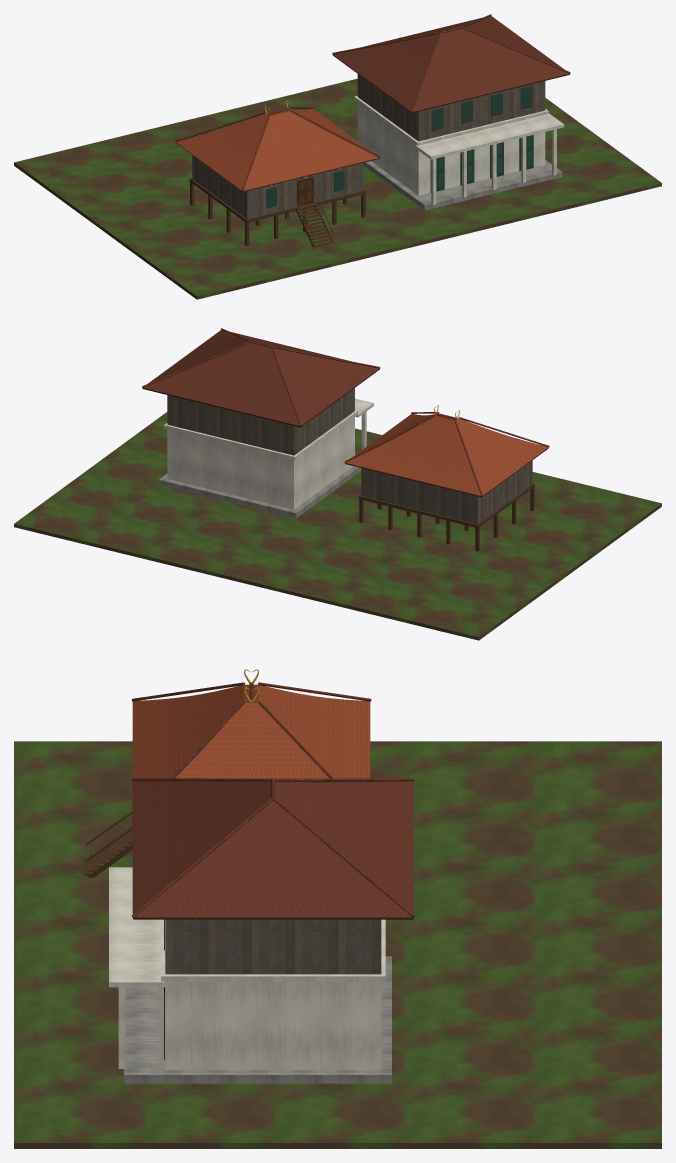
The model's file is munawar.glb.
3 views of the same model, one above another, from view 1: azimuth 30°, elevation 25°; view 2: azimuth 150°, elevation 25°; view 3: azimuth 270°, elevation 25° (orthographic). The views are drawn at different scales.
Visible parts, largest first — view 1: munawar_tanah, munawar_genteng_tua, munawar_plester_putih, munawar_genteng, munawar_kayu_lapuk, munawar_beton, munawar_kayu_balok, munawar_jalusi, munawar_pintu_hijau, munawar_pintu_coklat; view 2: munawar_tanah, munawar_genteng_tua, munawar_plester_putih, munawar_kayu_lapuk, munawar_genteng, munawar_beton, munawar_kayu_balok; view 3: munawar_tanah, munawar_genteng_tua, munawar_plester_putih, munawar_genteng, munawar_kayu_lapuk, munawar_beton, munawar_kayu_balok.
Boxes of the visible parts, <box> form: munawar_tanah: <box>14,78,661,299</box>; munawar_genteng_tua: <box>175,14,570,190</box>; munawar_plester_putih: <box>354,95,564,204</box>; munawar_genteng: <box>176,108,379,191</box>; munawar_kayu_lapuk: <box>192,74,545,218</box>; munawar_beton: <box>363,160,562,210</box>; munawar_kayu_balok: <box>189,178,365,247</box>; munawar_jalusi: <box>266,85,532,208</box>; munawar_pintu_hijau: <box>430,135,533,192</box>; munawar_pintu_coklat: <box>297,176,313,206</box>; munawar_tanah: <box>14,412,661,640</box>; munawar_genteng_tua: <box>142,328,549,496</box>; munawar_plester_putih: <box>164,398,373,509</box>; munawar_kayu_lapuk: <box>167,388,532,524</box>; munawar_genteng: <box>345,413,548,497</box>; munawar_beton: <box>159,454,361,518</box>; munawar_kayu_balok: <box>359,483,534,551</box>; munawar_tanah: <box>14,741,661,1148</box>; munawar_genteng_tua: <box>131,682,414,919</box>; munawar_plester_putih: <box>109,867,385,1070</box>; munawar_genteng: <box>132,684,370,778</box>; munawar_kayu_lapuk: <box>165,919,381,974</box>; munawar_beton: <box>124,956,391,1083</box>; munawar_kayu_balok: <box>83,811,132,877</box>.
Bounding box in the file's own units: 44 × 12.38 × 30.
12 materials, 12 textured.
